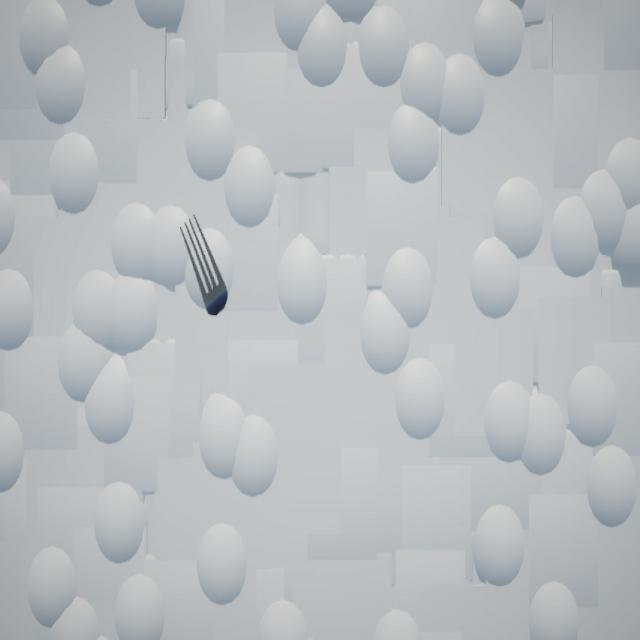top_folk: (180, 216, 229, 318)
